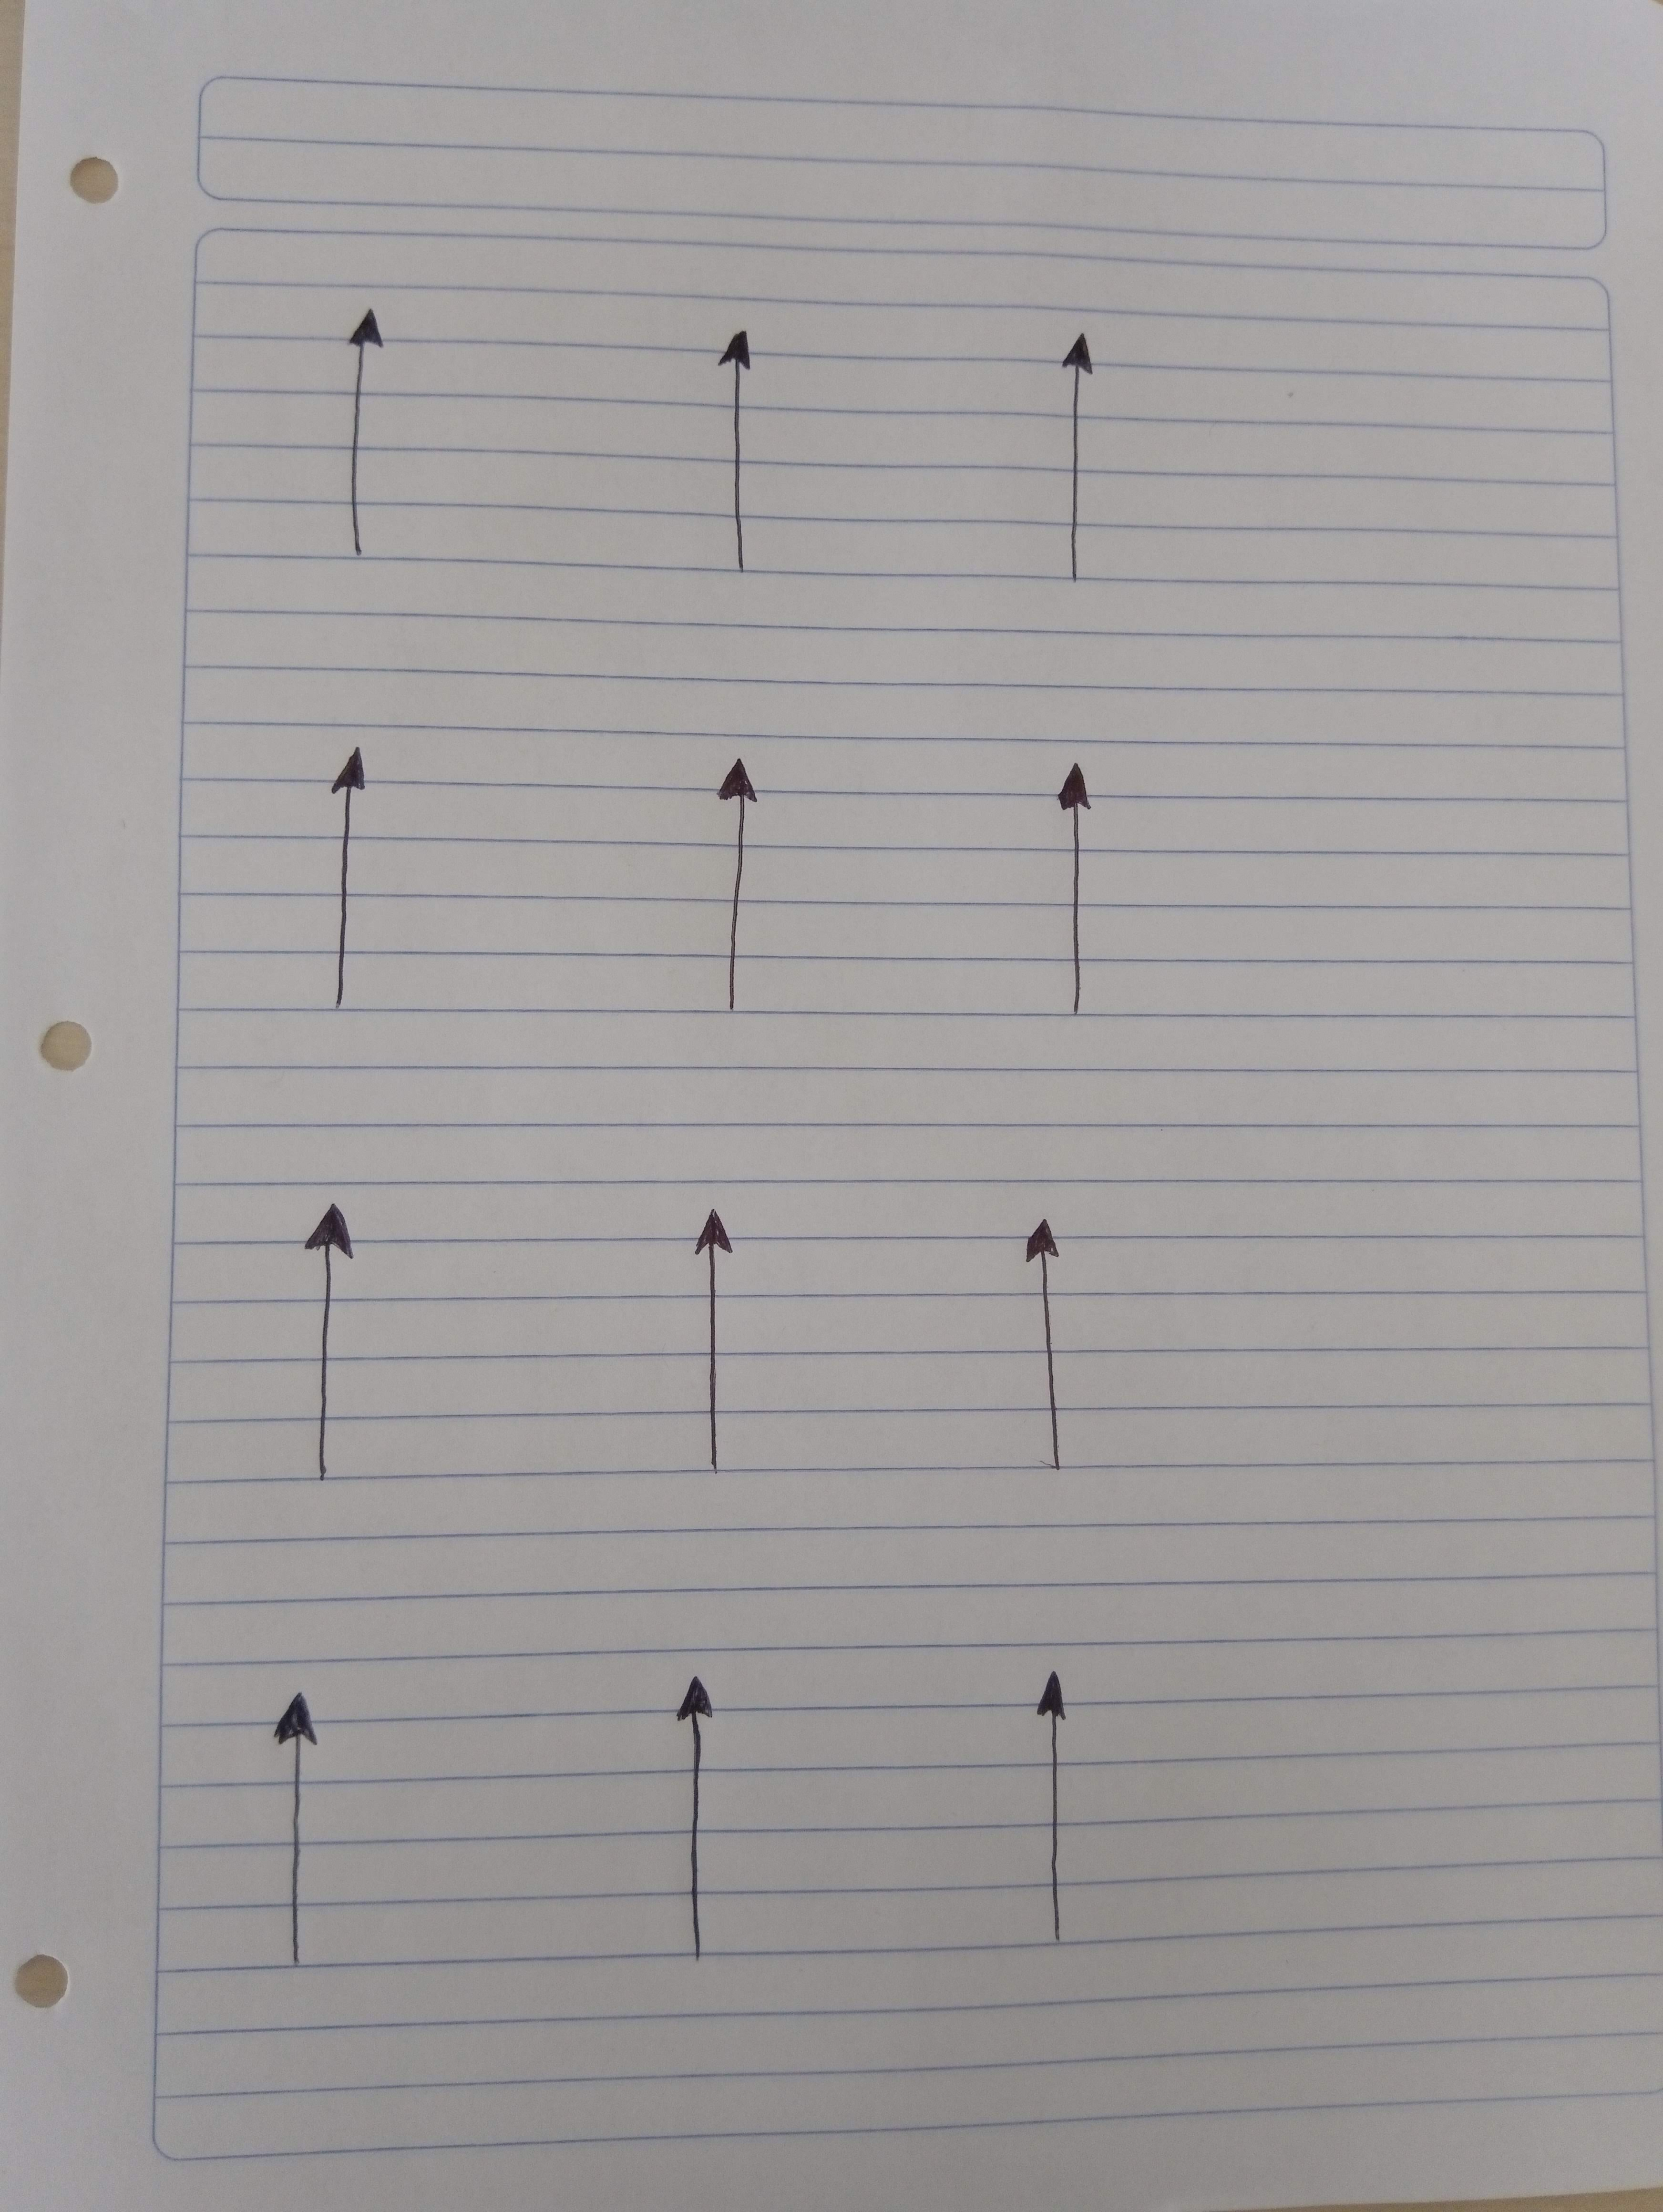arrow_line_up: (1015, 1655, 1114, 1964), (1006, 1201, 1108, 1493), (278, 1194, 365, 1512), (250, 1693, 339, 1996), (653, 1659, 739, 1971), (676, 1205, 758, 1507), (323, 292, 405, 581), (700, 751, 790, 999), (316, 732, 383, 1035), (1041, 752, 1114, 1023), (1041, 333, 1104, 574), (720, 321, 774, 581)
